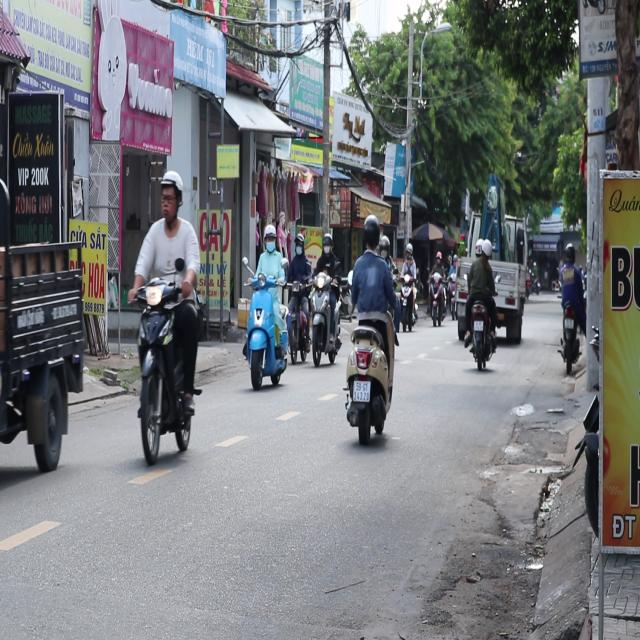helmet: (157, 169, 183, 222), (361, 213, 380, 249), (262, 222, 277, 250)
licenseplate: (126, 168, 204, 464), (342, 213, 399, 443), (240, 222, 288, 391)
nohelmet: (352, 381, 370, 401)
